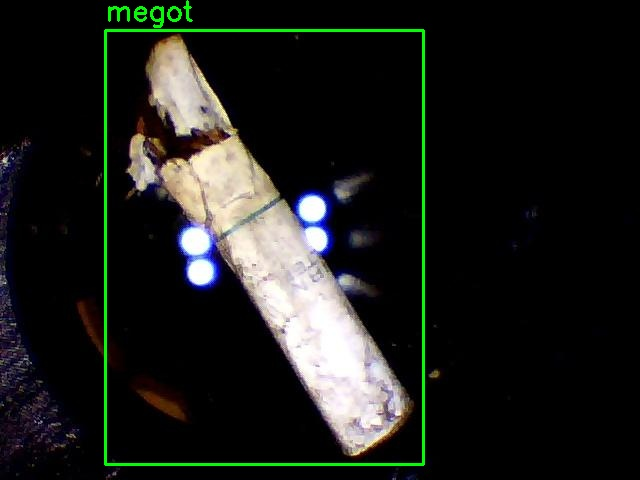megot: (105, 30, 423, 464)
